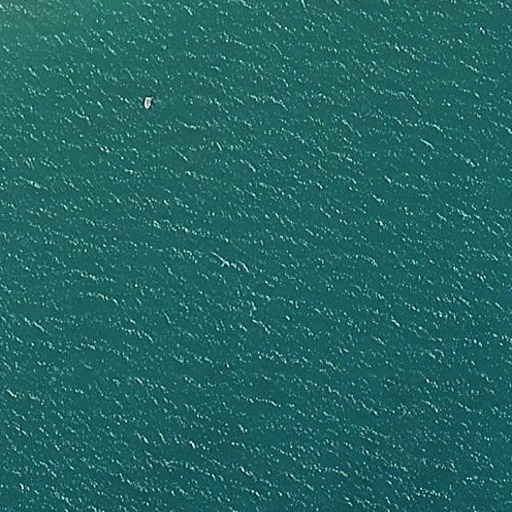ship: (141, 94, 155, 111)
